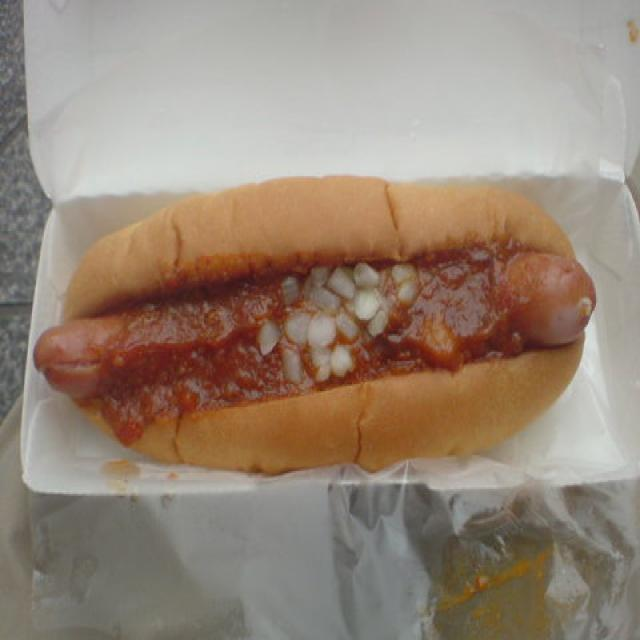三明治: (12, 199, 584, 501)
